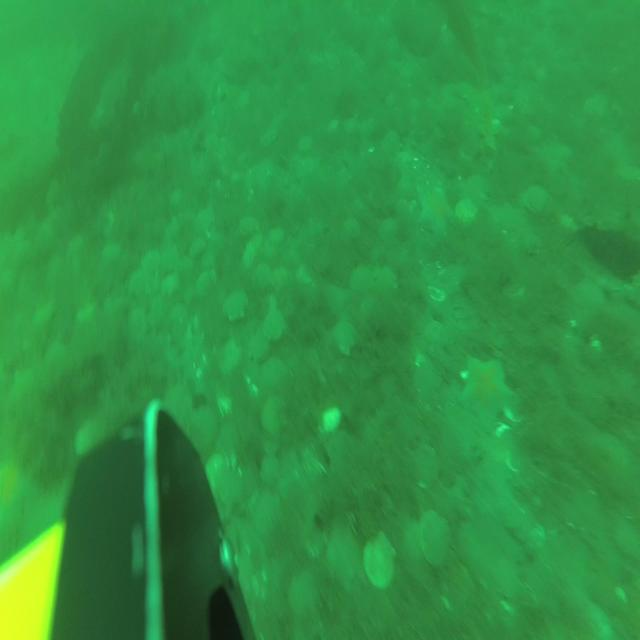scallop: (362, 526, 398, 591), (326, 524, 362, 589), (204, 449, 242, 506), (418, 507, 452, 569), (286, 570, 322, 620), (164, 381, 194, 436), (188, 403, 218, 455), (73, 413, 106, 457), (411, 440, 440, 490), (253, 491, 283, 539), (324, 427, 354, 473), (572, 277, 605, 314), (261, 396, 287, 437), (332, 316, 359, 355), (222, 288, 250, 323), (218, 336, 241, 378), (247, 326, 271, 363), (583, 91, 612, 121), (262, 308, 286, 343), (260, 448, 281, 488), (523, 184, 548, 215), (376, 263, 398, 298), (262, 354, 285, 387), (350, 263, 372, 297), (318, 403, 342, 433), (423, 316, 445, 348), (74, 300, 100, 324), (193, 207, 216, 234), (455, 195, 477, 223), (127, 305, 147, 335), (128, 269, 149, 297), (381, 128, 401, 157), (31, 303, 54, 327), (197, 268, 216, 297), (379, 215, 398, 243), (170, 301, 187, 332), (160, 245, 178, 274), (269, 265, 289, 290), (160, 271, 180, 296), (141, 245, 159, 272), (101, 240, 122, 263), (188, 237, 208, 261), (253, 262, 271, 288), (238, 216, 259, 238), (345, 214, 361, 240), (259, 126, 278, 147), (307, 216, 325, 238), (295, 264, 312, 287), (296, 135, 314, 153), (344, 116, 359, 135), (270, 225, 284, 245), (361, 118, 374, 138), (326, 116, 338, 136)
starfish: (457, 347, 515, 435), (412, 183, 455, 241)
